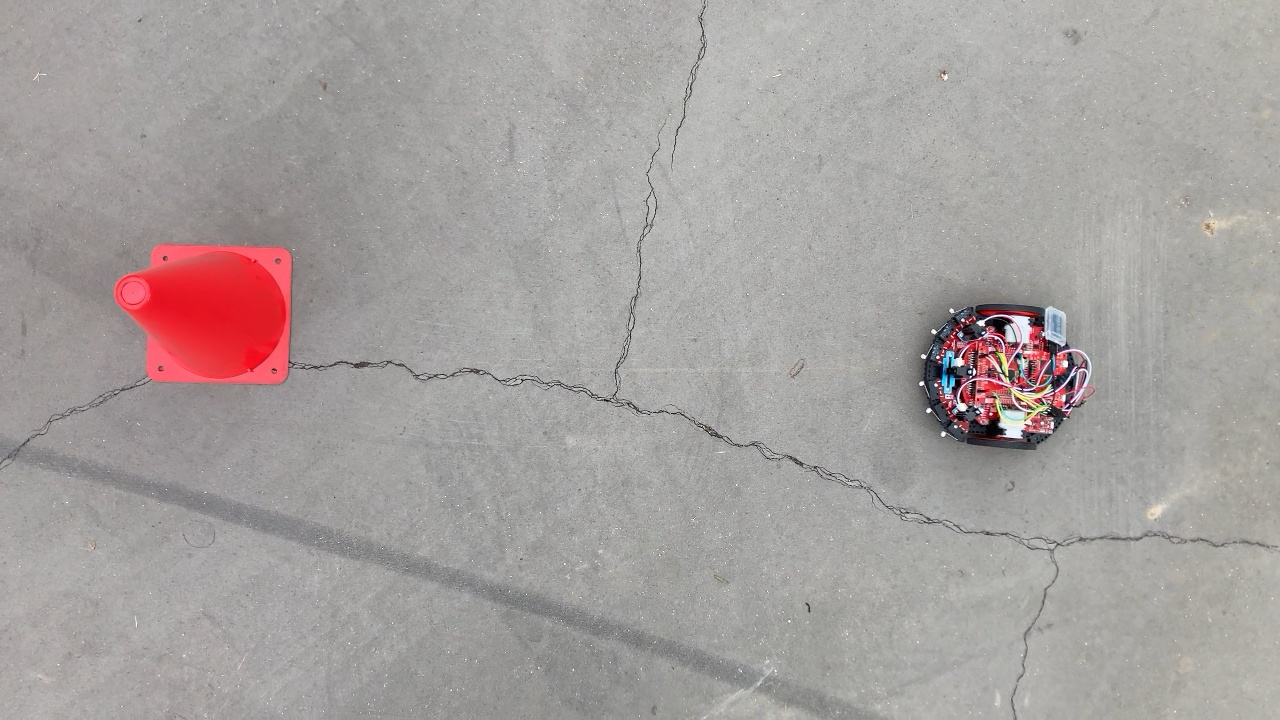red_cone: (116, 238, 298, 388)
robot: (916, 300, 1098, 453)
